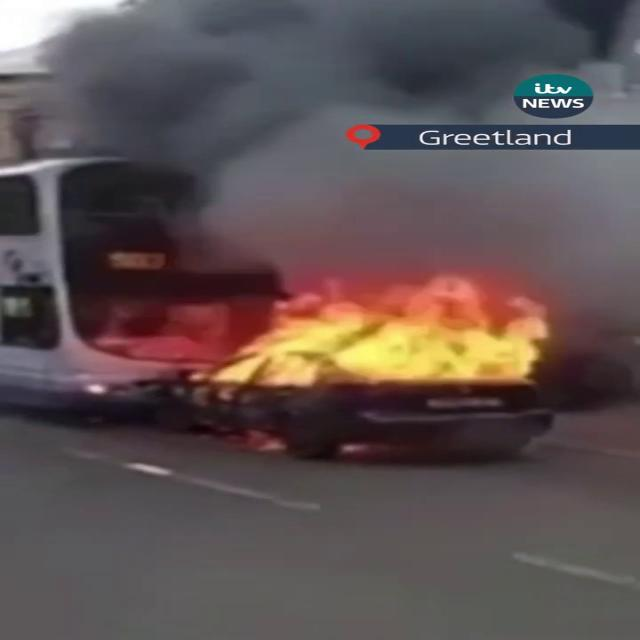Fire: (198, 276, 572, 400)
Smoke: (14, 0, 635, 296)
